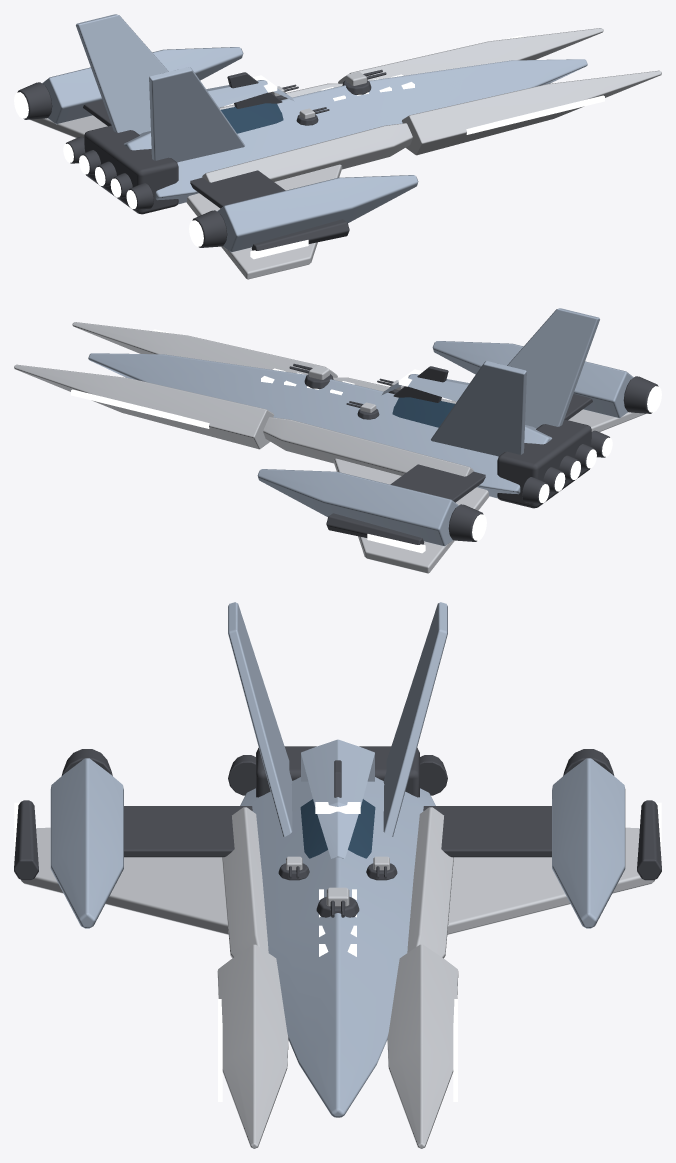
Rendered from angular_titan.glb.
3 views of the same model, one above another, from view 1: azimuth 30°, elevation 25°; view 2: azimuth 150°, elevation 25°; view 3: azimuth 270°, elevation 25° (orthographic). The views are drawn at different scales.
Parts seen in each view (by area): view 1: angular_titan; view 2: angular_titan; view 3: angular_titan.
Part boxes in pixels (<box>): angular_titan: <box>14,14,661,279</box>; angular_titan: <box>14,308,661,573</box>; angular_titan: <box>14,602,661,1148</box>.
Size of the model in its own units: 3 by 0.8358 by 2.21.
